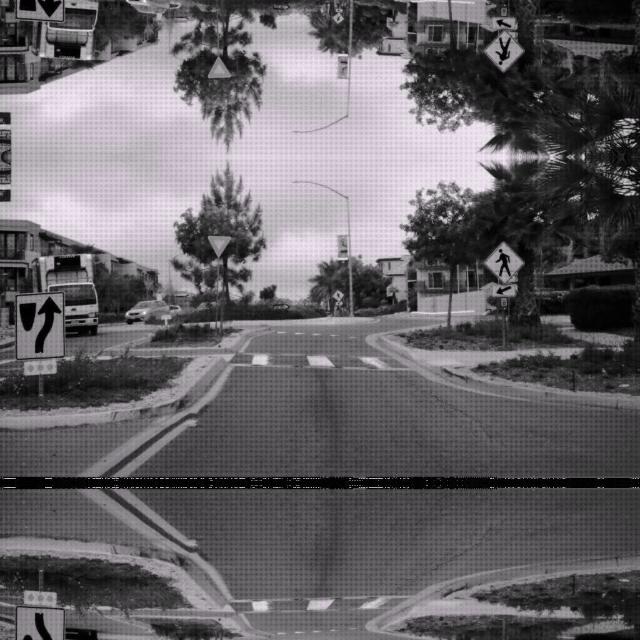pedestrianCrossing: (482, 239, 524, 283), (482, 29, 524, 73), (332, 288, 344, 300), (332, 12, 344, 24)
yield: (206, 234, 232, 256), (206, 56, 232, 78)
